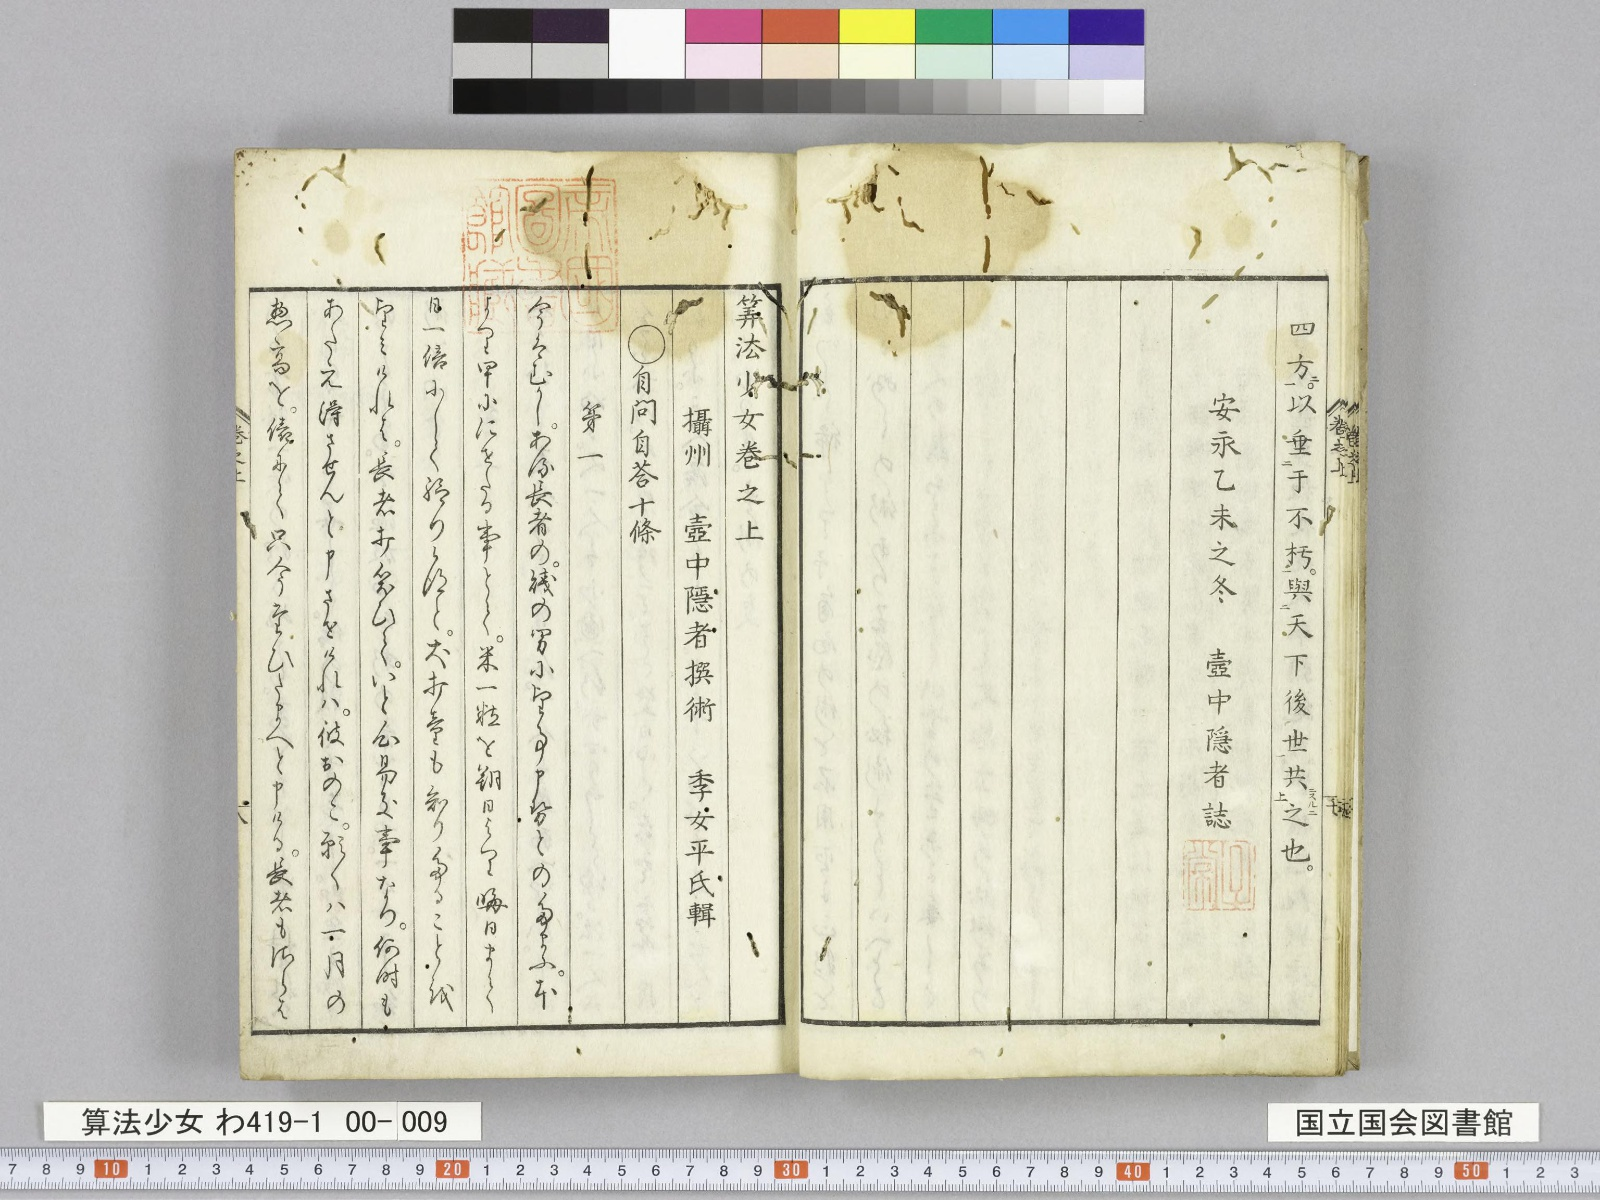1_overall: (234, 142, 1366, 1079)
2_handwritten: (370, 297, 406, 1022), (528, 303, 561, 1008), (475, 299, 506, 1013), (267, 297, 297, 1024), (425, 299, 452, 1008), (321, 300, 348, 1013), (627, 367, 661, 545), (577, 397, 603, 468)
3_typography: (1281, 319, 1315, 867), (687, 400, 717, 933), (737, 291, 767, 539), (1207, 396, 1238, 608), (1203, 648, 1235, 833)
5_stamp: (459, 171, 622, 332), (1180, 838, 1254, 913)
